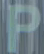Parking: (5, 2, 43, 52)
